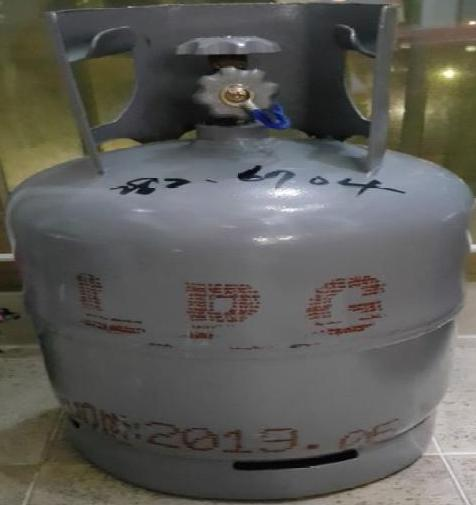cylinder: (1, 1, 476, 505)
